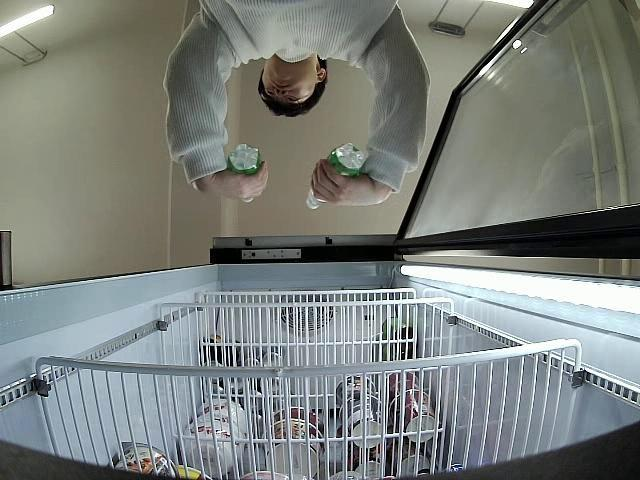18_trevi: (307, 144, 365, 208), (227, 144, 260, 204)
